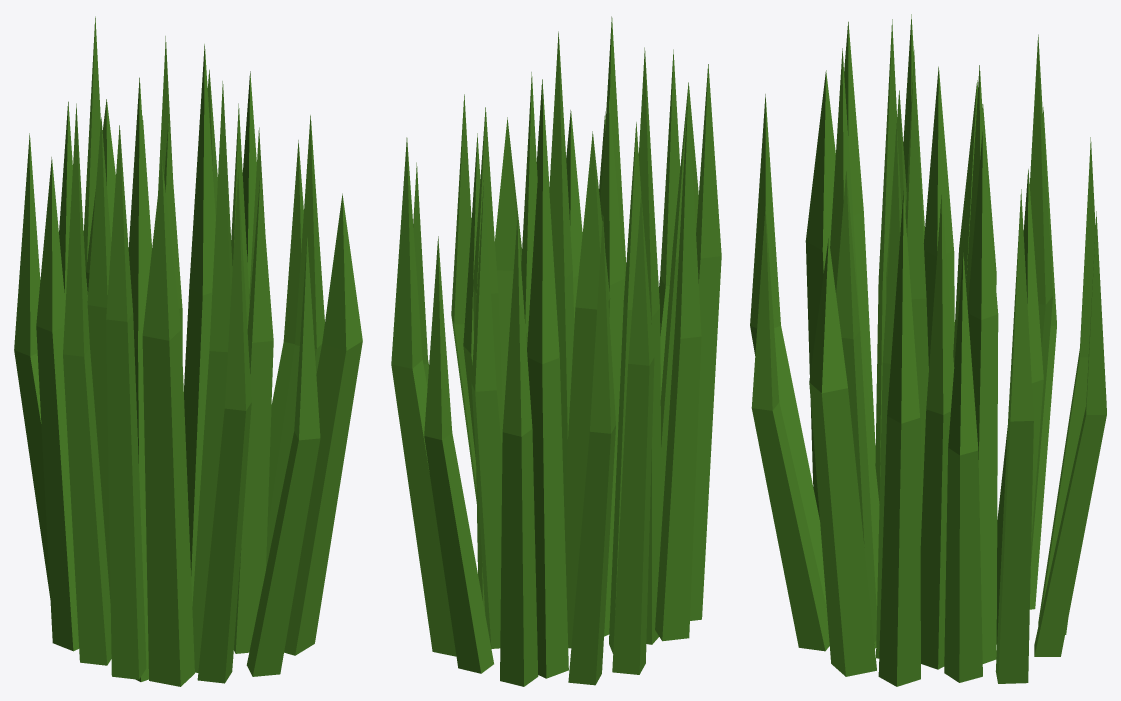
File: ElementGrass.fbx
3 views of the same model, side by side, from view 1: azimuth 30°, elevation 25°; view 2: azimuth 150°, elevation 25°; view 3: azimuth 270°, elevation 25° (orthographic).
Parts seen in each view (by area): view 1: polySurface1; view 2: polySurface1; view 3: polySurface1.
Part boxes in pixels (x1,y1,x2,y2): polySurface1: (14,16,362,686); polySurface1: (391,16,721,686); polySurface1: (750,14,1106,686).
Bounding box in the file's own units: 1.28 × 2.7 × 1.45.
